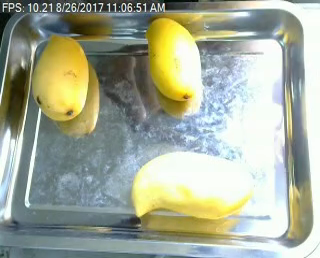Mango: (125, 146, 253, 226), (27, 29, 95, 125), (141, 16, 206, 106)
